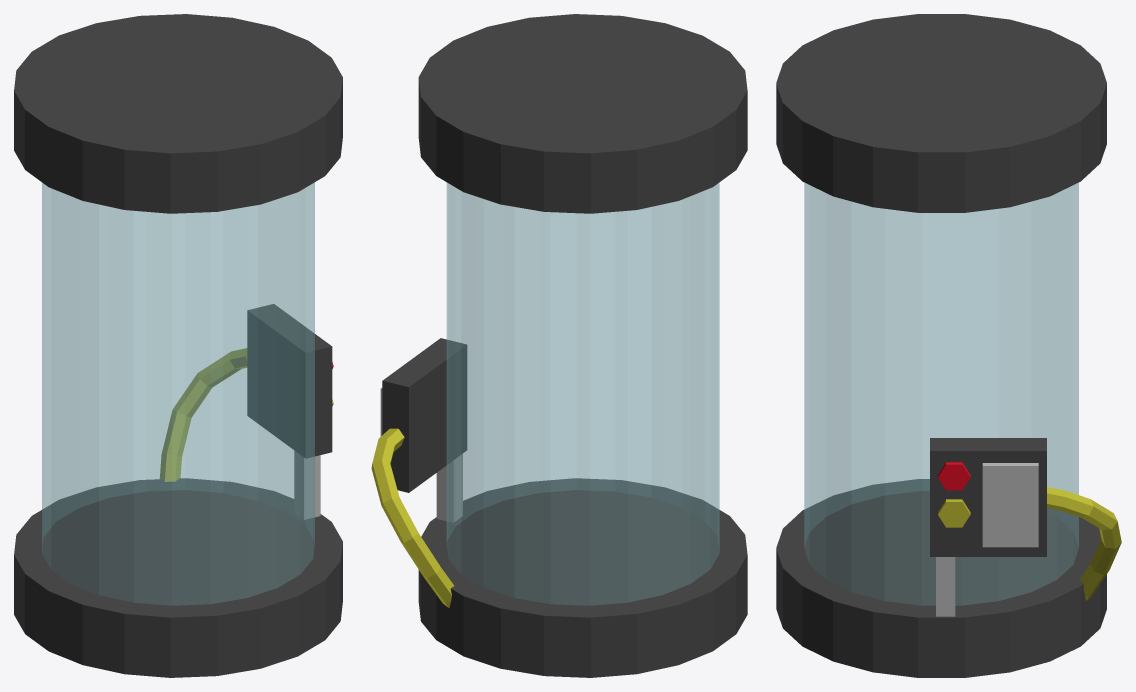
File: Cryo Chamber (2).fbx
The picture shows the model from 3 angles, left to right: view 1: azimuth 30°, elevation 25°; view 2: azimuth 150°, elevation 25°; view 3: azimuth 270°, elevation 25°; orthographic projection.
Visible parts, largest first — view 1: Cryo Chamber; view 2: Cryo Chamber; view 3: Cryo Chamber.
Part boxes in pixels (x1=…): Cryo Chamber: x1=14, y1=14, x2=342, y2=677; Cryo Chamber: x1=371, y1=14, x2=747, y2=677; Cryo Chamber: x1=776, y1=14, x2=1121, y2=677.
Size of the model in its own units: 159 by 270 by 161.
